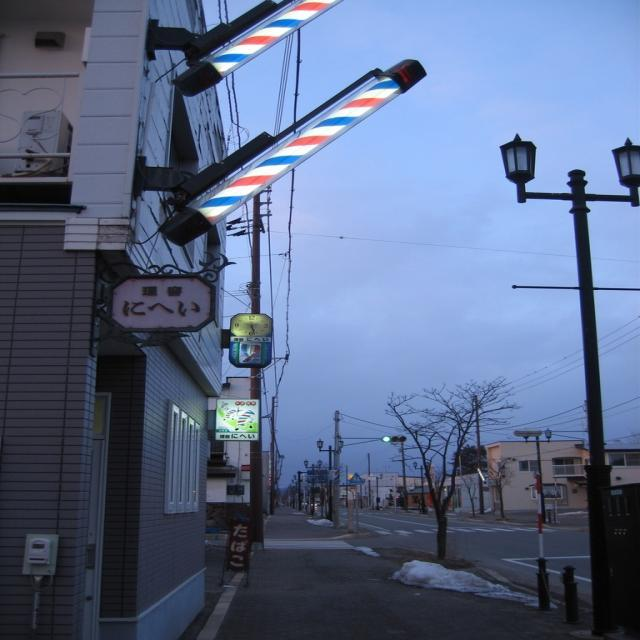traffic light: (381, 434, 408, 443)
